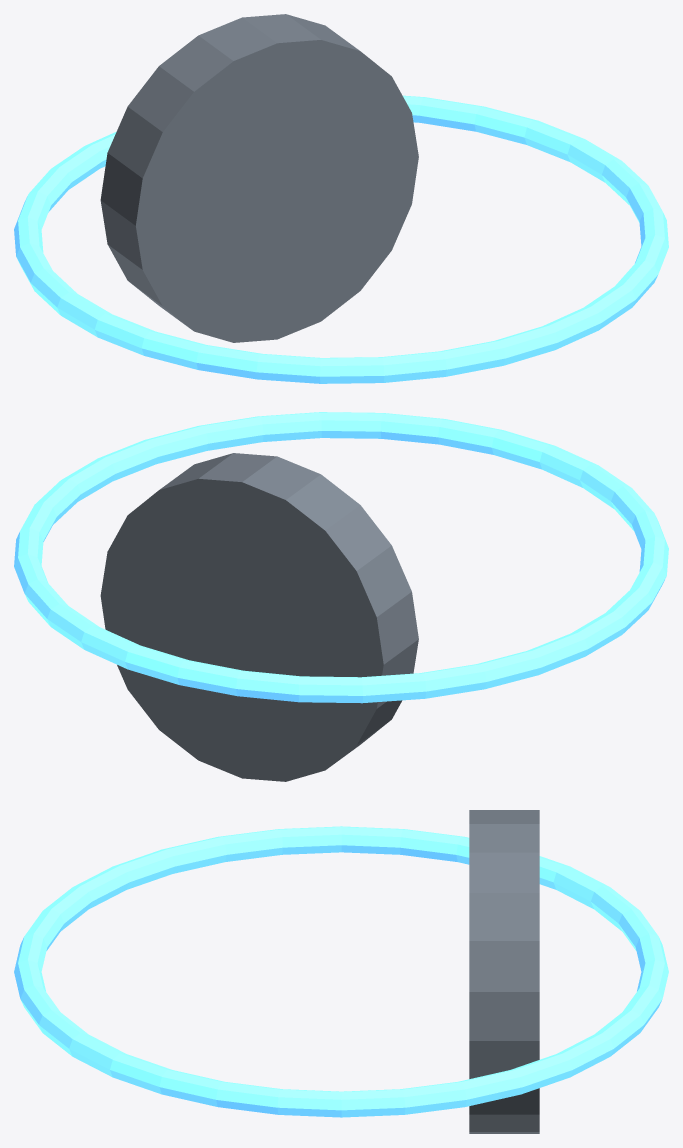
The model's file is shield_02.glb.
3 views of the same model, one above another, from view 1: azimuth 30°, elevation 25°; view 2: azimuth 150°, elevation 25°; view 3: azimuth 270°, elevation 25° (orthographic).
Visible parts, largest first — view 1: emitter_base, nested_ring; view 2: emitter_base, nested_ring; view 3: nested_ring, emitter_base.
Part boxes in pixels (box(x1,y1,x2,y2)): emitter_base: box(100, 14, 418, 342); nested_ring: box(14, 95, 668, 383); emitter_base: box(100, 453, 418, 781); nested_ring: box(14, 412, 668, 703); nested_ring: box(14, 826, 668, 1117); emitter_base: box(469, 810, 539, 1133).
Size of the model in its own units: 2.61 by 1.3 by 2.61.
